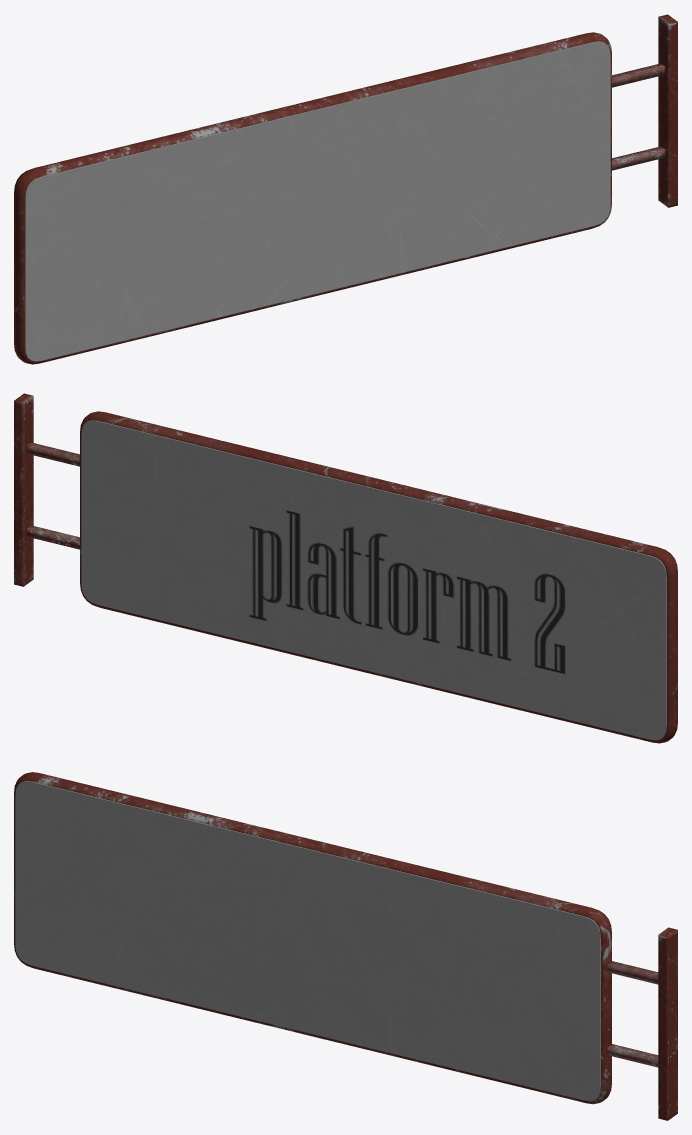
File: SM_Sign2.FBX
The picture shows the model from 3 angles, top to bottom: view 1: azimuth 30°, elevation 25°; view 2: azimuth 150°, elevation 25°; view 3: azimuth 330°, elevation 25°; orthographic projection.
Visible parts, largest first — view 1: SM_Sign2; view 2: SM_Sign2; view 3: SM_Sign2.
Part boxes in pixels (x1,y1,x2,y2): SM_Sign2: (14, 14, 677, 364); SM_Sign2: (14, 393, 677, 743); SM_Sign2: (14, 772, 677, 1120).
Size of the model in its own units: 112 by 3 by 31.62.
